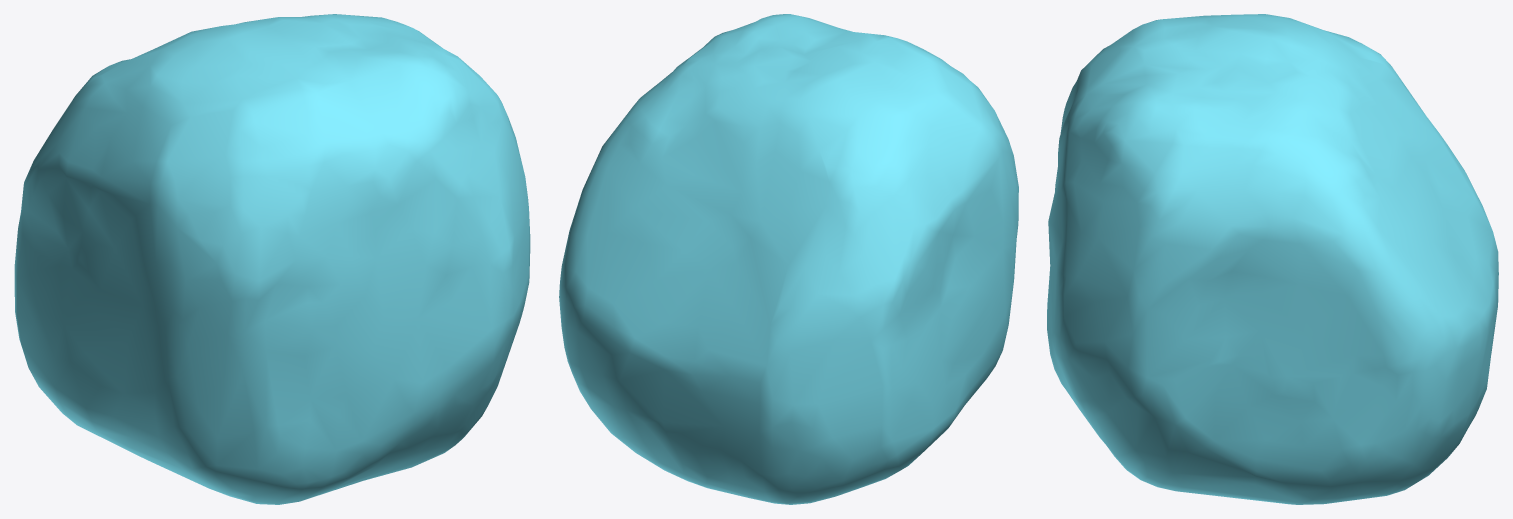
Rendered from SmallRock_low.fbx.
3 renders of one model, left to right at view 1: azimuth 30°, elevation 25°; view 2: azimuth 150°, elevation 25°; view 3: azimuth 270°, elevation 25°, orthographic. The views are drawn at different scales.
Parts seen in each view (by area): view 1: SmallRock_low; view 2: SmallRock_low; view 3: SmallRock_low.
Part boxes in pixels (box(x1,y1,x2,y2)): SmallRock_low: box(14, 14, 530, 504); SmallRock_low: box(559, 14, 1018, 504); SmallRock_low: box(1047, 14, 1498, 504).
Bounding box in the file's own units: 0.2182 × 0.2291 × 0.2342.
